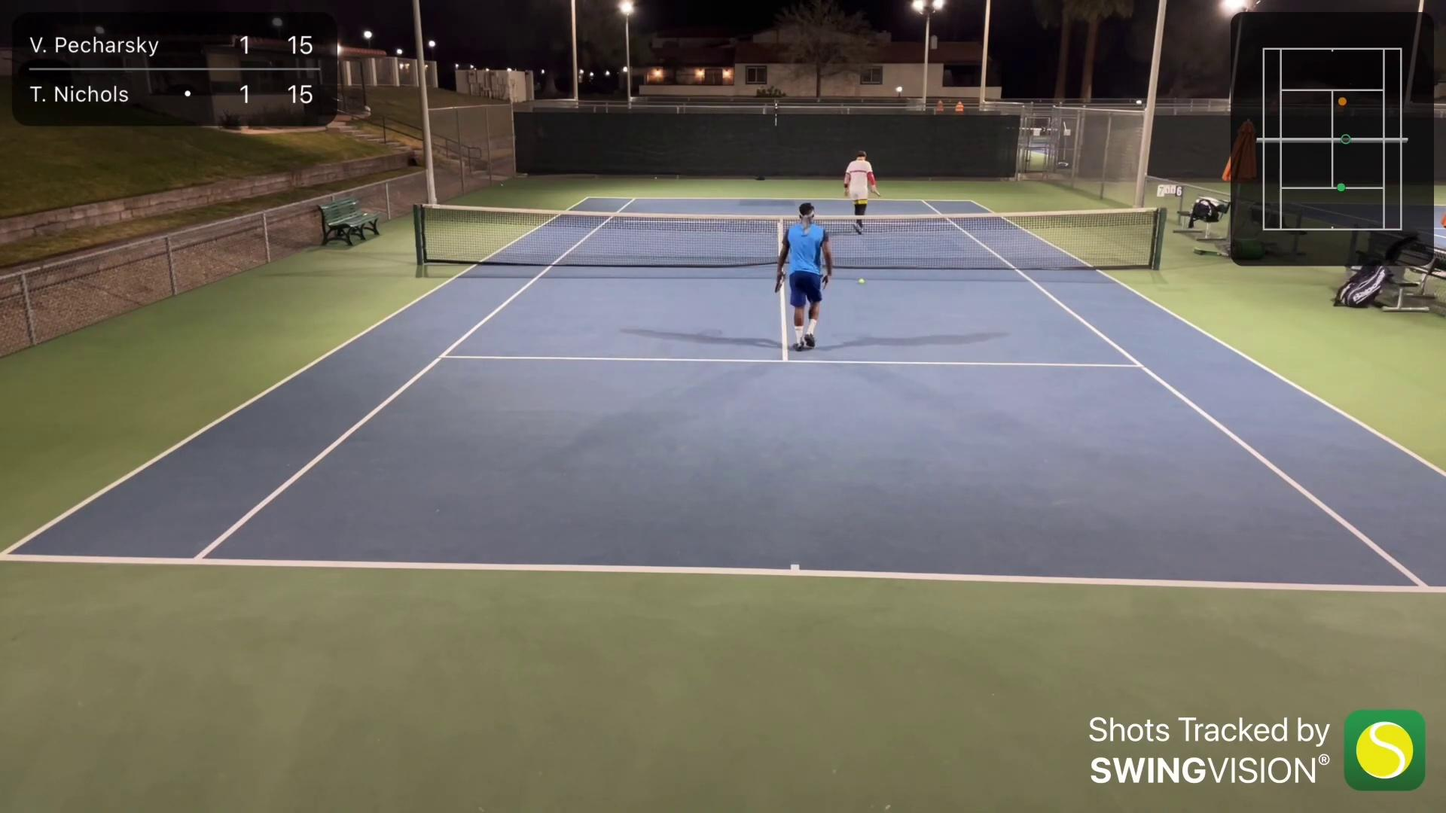ball: (858, 277, 865, 285)
